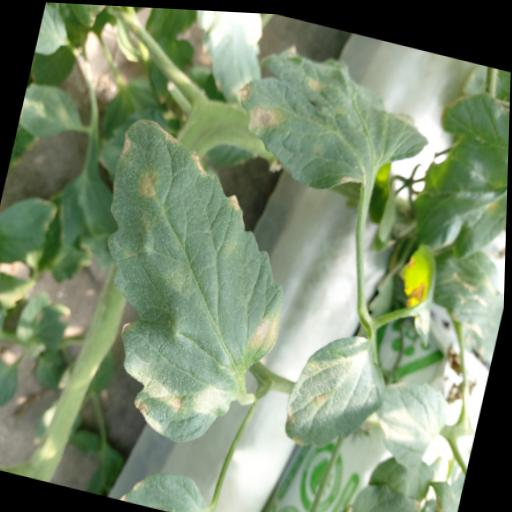Leaf Mold: (62, 108, 319, 460), (221, 33, 443, 212), (279, 314, 393, 457)
